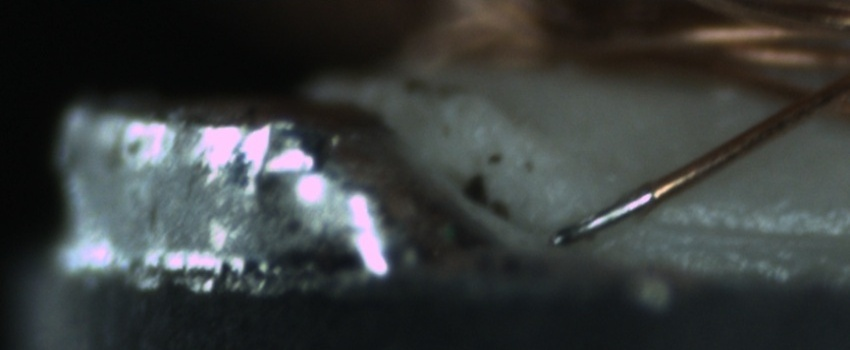CL: (772, 76, 843, 125)
DL: (639, 201, 849, 265)
TS: (549, 190, 655, 245)
